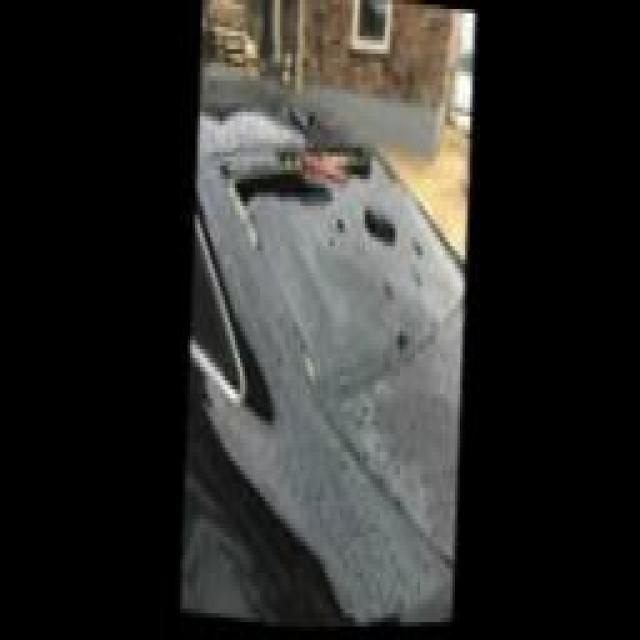replaceable: (228, 48, 459, 341)
